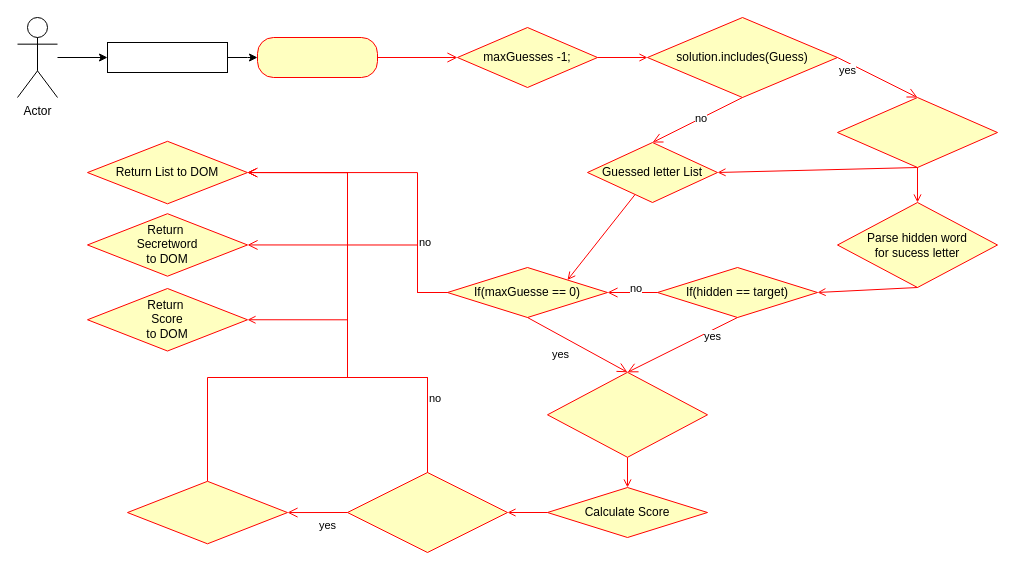
This 1015x570 diagram has some shape labels left out. Each missing label, with the centre of its shape:
"Ask for nickName" belongs at [207,512].
"Ask to save Nickname and score" belongs at [427,512].
"Game Over" belongs at [627,414].
"Input Guess" belongs at [317,57].
"Play game" belongs at [167,57].
"Succsess letter list" belongs at [917,132].
